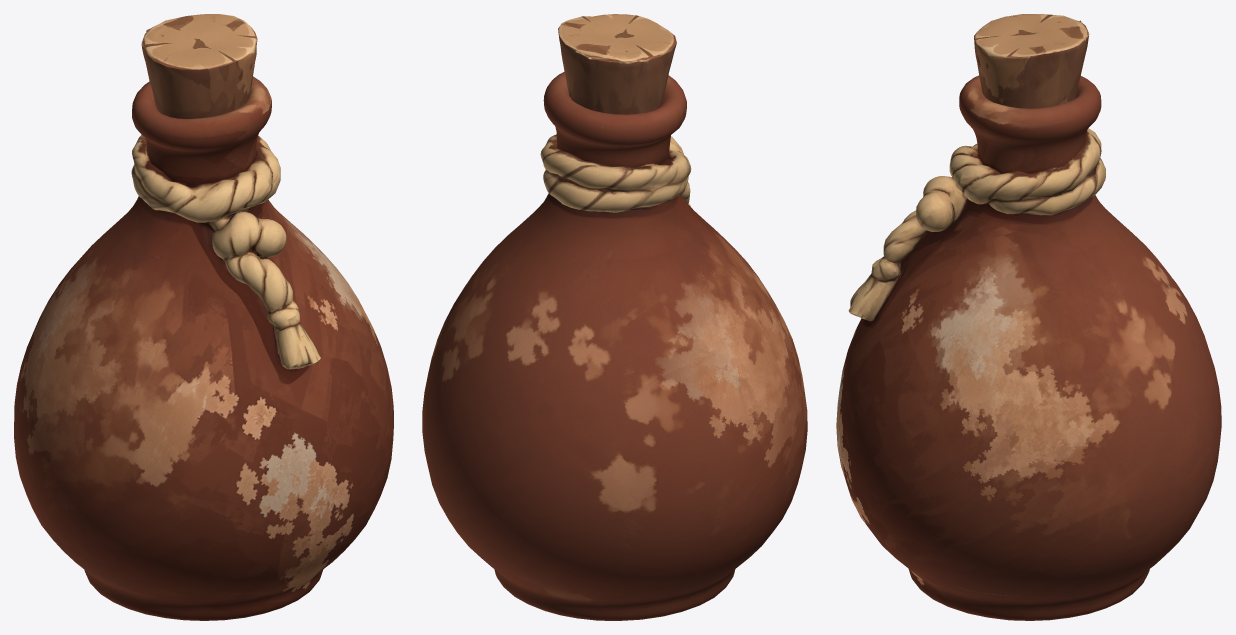
File: ataho-flask.glb
3 views of the same model, side by side, from view 1: azimuth 30°, elevation 25°; view 2: azimuth 150°, elevation 25°; view 3: azimuth 270°, elevation 25° (orthographic).
Bounding box in the file's own units: 1.22 × 1.9 × 1.22.
1 material, 1 textured.
